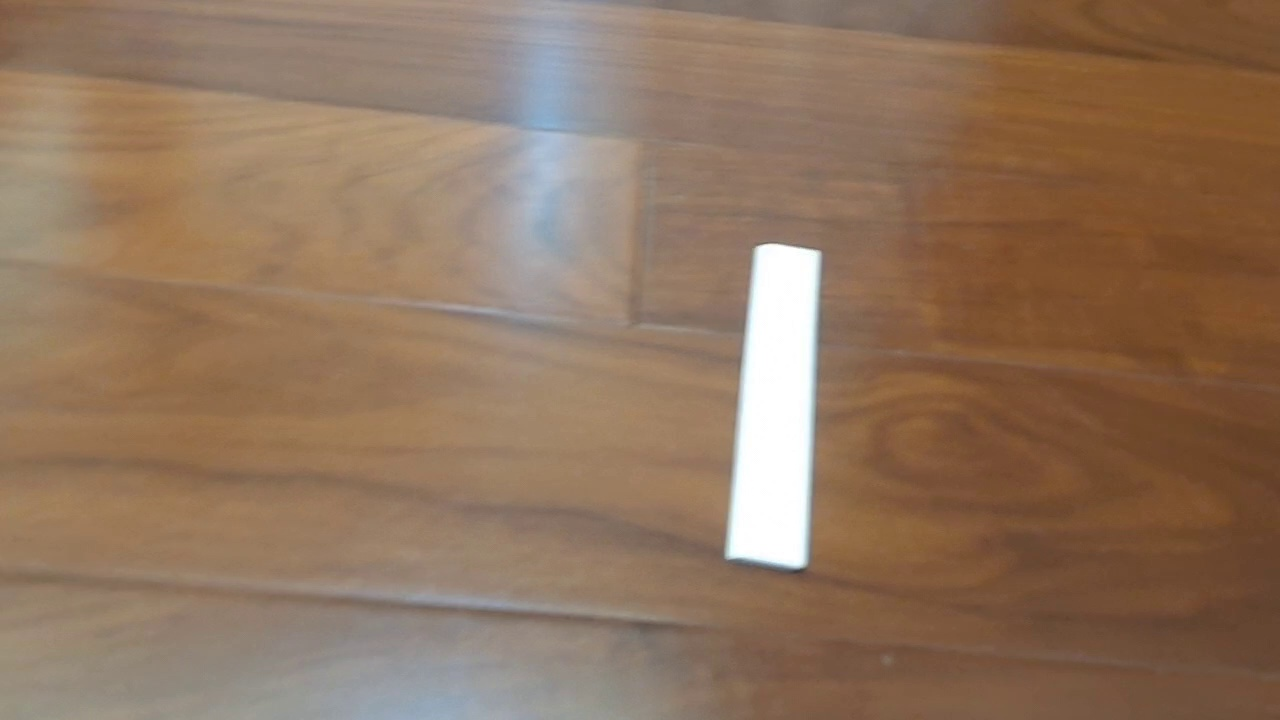ruler: (721, 240, 824, 574)
